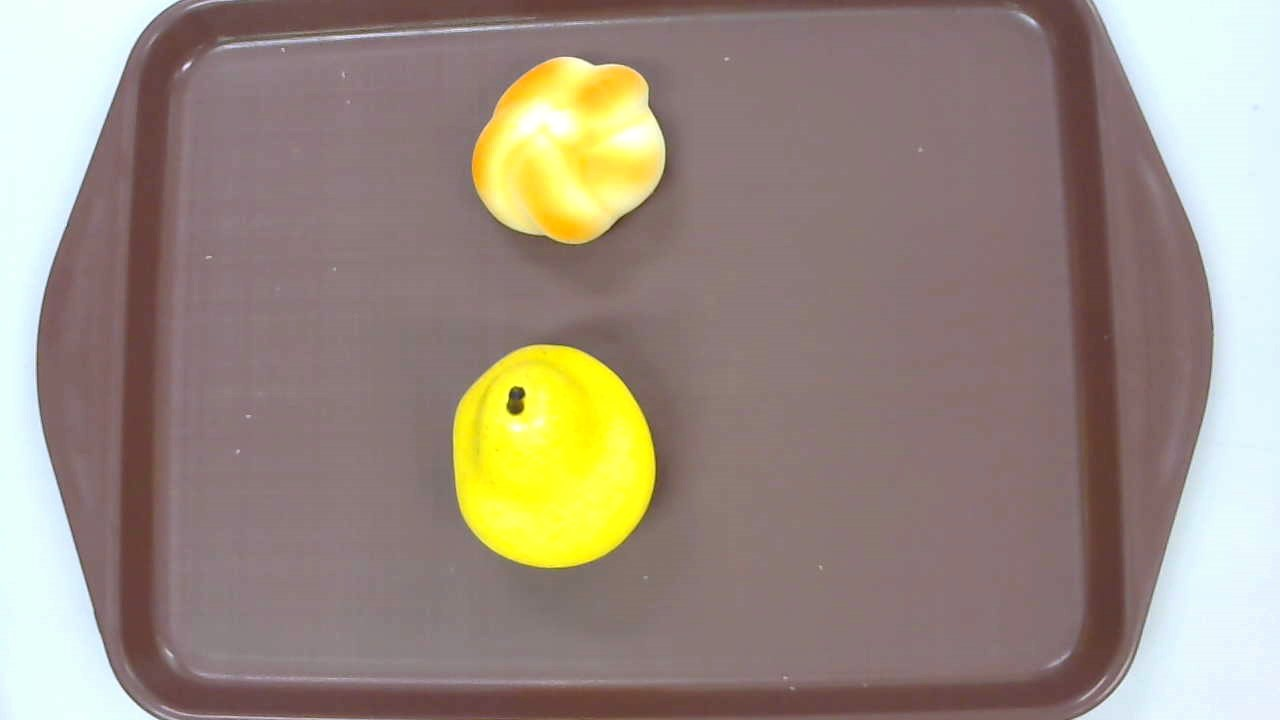twist bread: (471, 56, 666, 243)
yellow pear: (452, 343, 656, 569)
